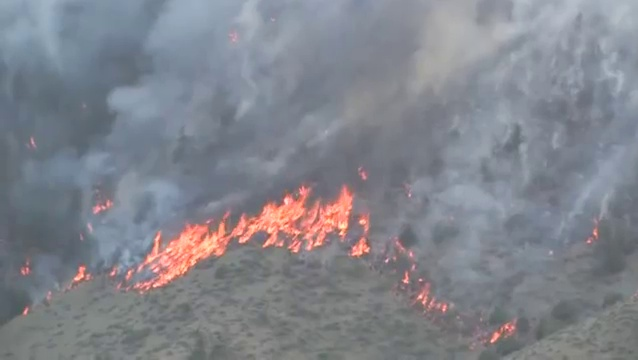fire: (140, 190, 368, 290)
